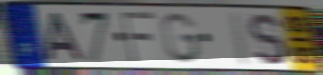7: (78, 10, 113, 64)
A: (44, 11, 87, 62)
F: (120, 11, 157, 65)
G: (160, 11, 202, 65)
I: (227, 10, 253, 67)
S: (246, 11, 290, 67)
